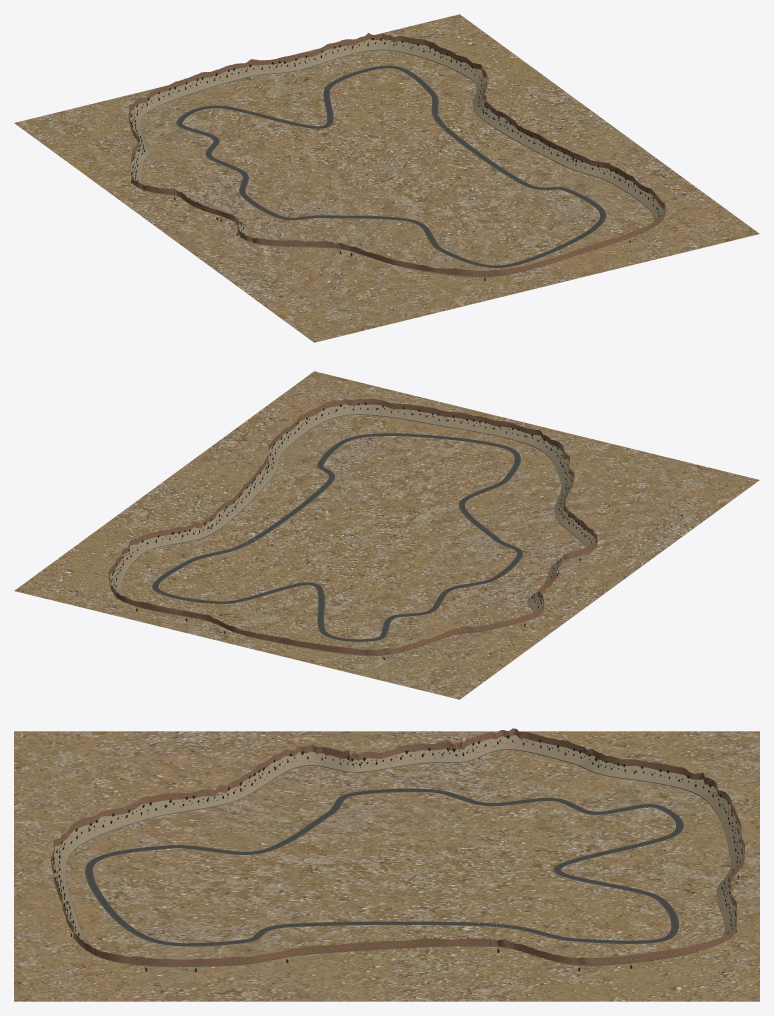
3 views of the same model, one above another, from view 1: azimuth 30°, elevation 25°; view 2: azimuth 150°, elevation 25°; view 3: azimuth 270°, elevation 25° (orthographic). The views are drawn at different scales.
Parts seen in each view (by area): view 1: Plane, RaceTrack_Wall_00, RaceTrack_Main_00, RaceTrack_Trees_00; view 2: Plane, RaceTrack_Wall_00, RaceTrack_Main_00, RaceTrack_Trees_00; view 3: Plane, RaceTrack_Wall_00, RaceTrack_Main_00, RaceTrack_Trees_00, RaceTrack_Curbs_00.
Boxes of the visible parts, x1,y1,x2,y2 form: Plane: [14, 14, 759, 342]; RaceTrack_Wall_00: [128, 33, 665, 277]; RaceTrack_Main_00: [176, 65, 606, 268]; RaceTrack_Trees_00: [130, 37, 663, 281]; Plane: [14, 371, 759, 699]; RaceTrack_Wall_00: [108, 398, 597, 655]; RaceTrack_Main_00: [152, 433, 523, 641]; RaceTrack_Trees_00: [111, 402, 595, 659]; Plane: [14, 731, 759, 1001]; RaceTrack_Wall_00: [51, 728, 744, 966]; RaceTrack_Main_00: [84, 788, 684, 946]; RaceTrack_Trees_00: [53, 735, 742, 971]; RaceTrack_Curbs_00: [93, 792, 675, 943].
Bounding box in the file's own units: 1200 × 35.41 × 1400.
